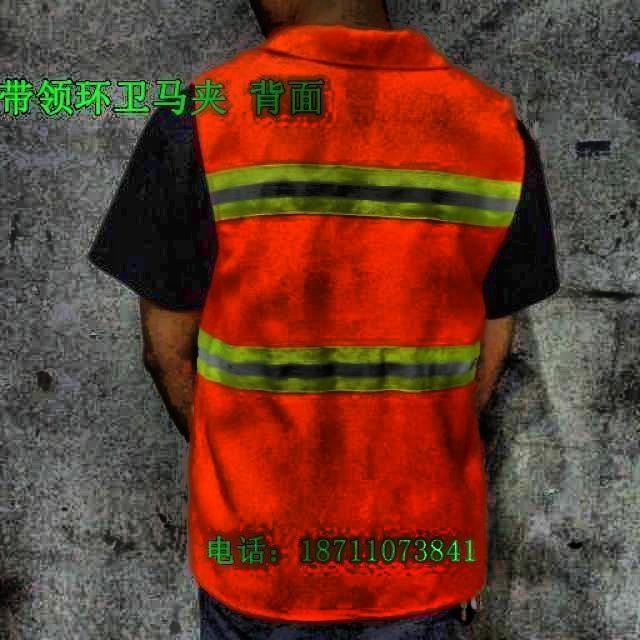safety_jacket: (203, 41, 483, 522)
